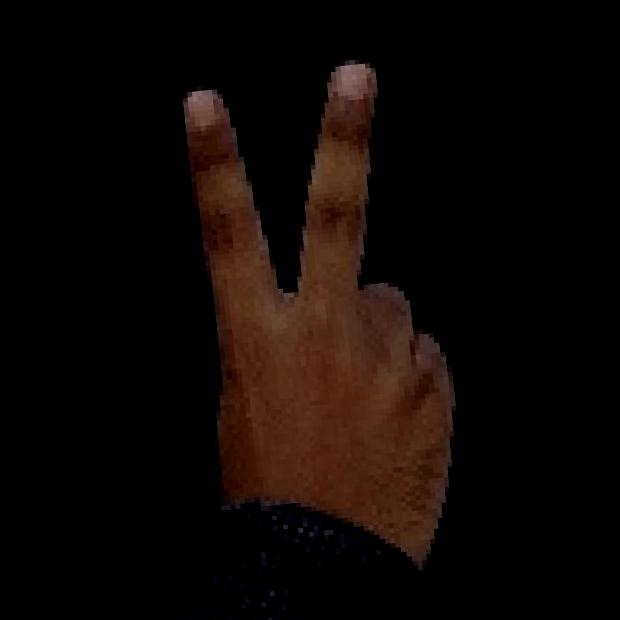U: (125, 32, 504, 516)
